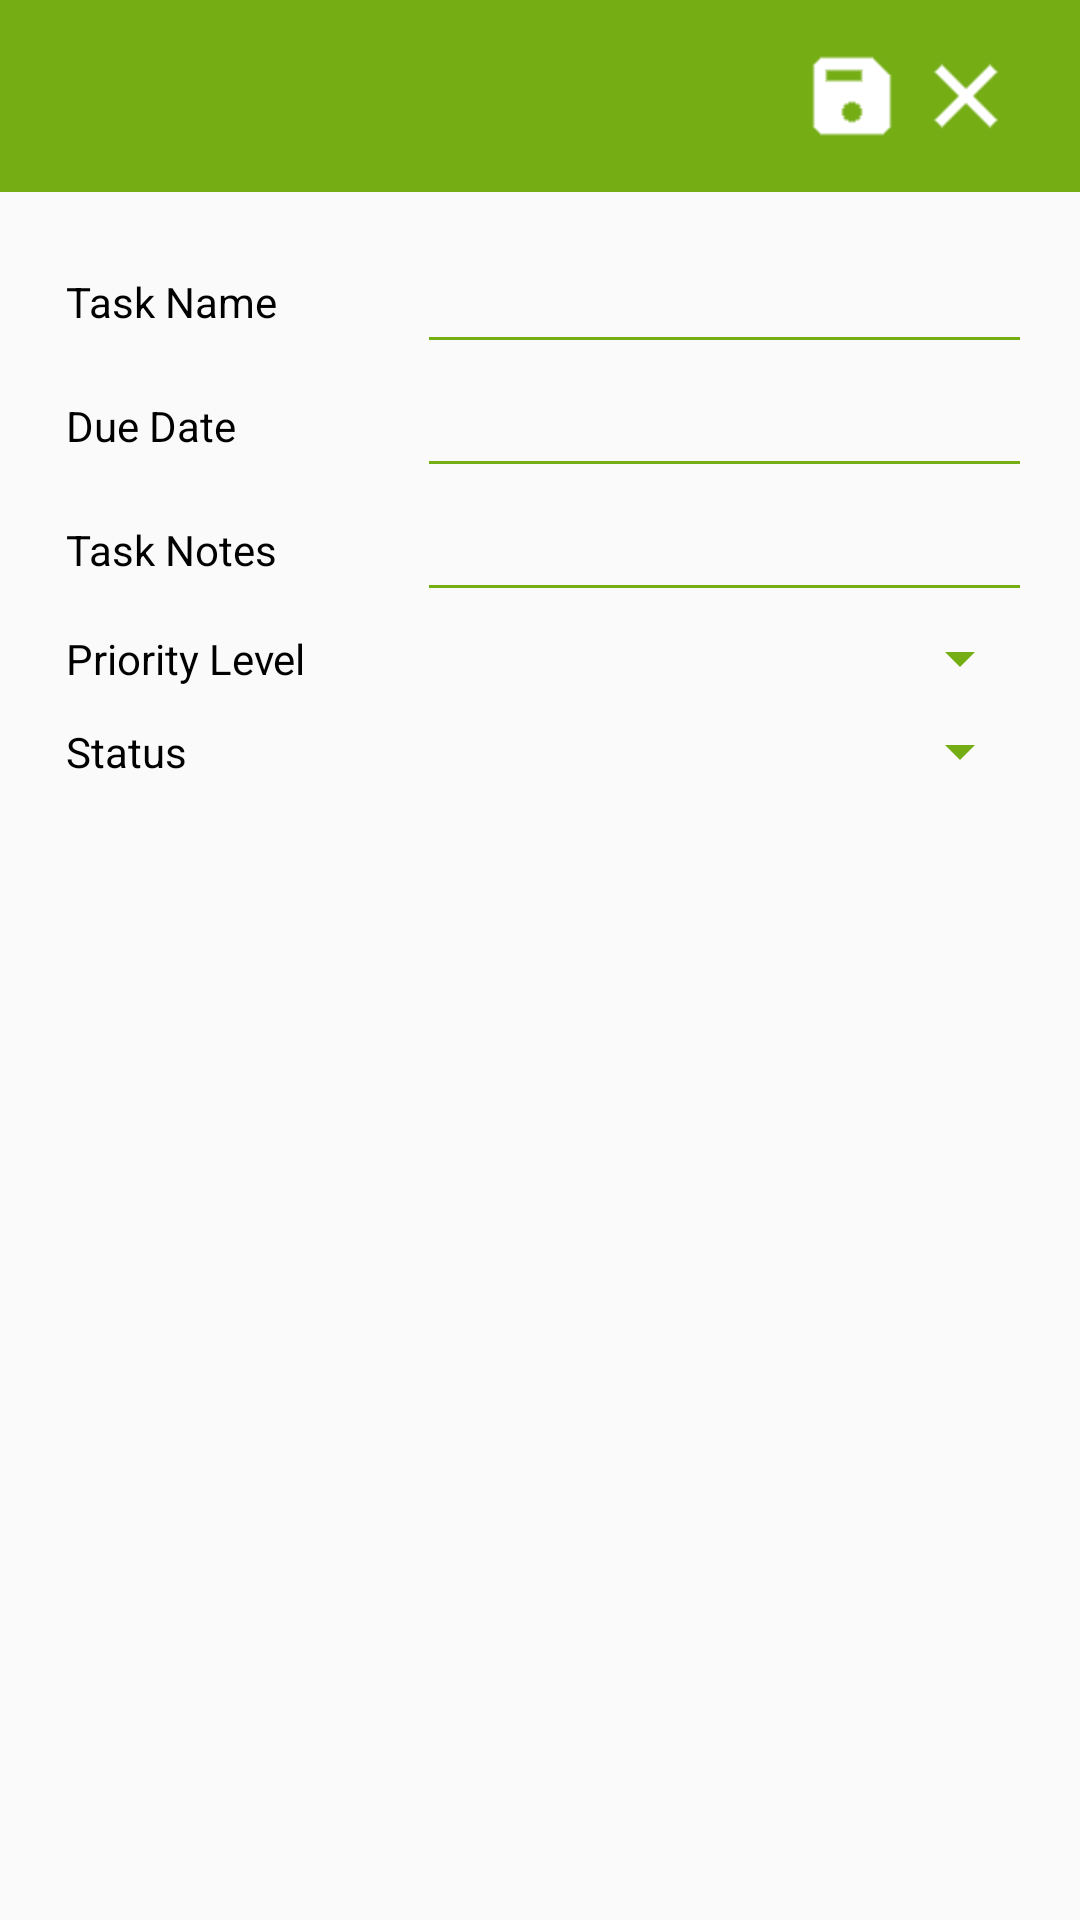

Icon bounding boxes for this 1080w x 1920h phone screenshot, format region(x1, y1, x2, y2):
close: region(934, 64, 998, 128)
save: region(812, 56, 892, 136)
